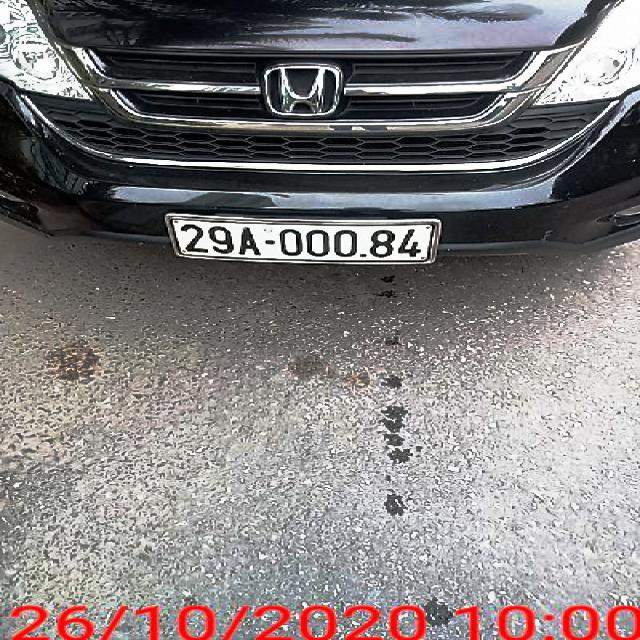license_plate: (167, 216, 437, 263)
